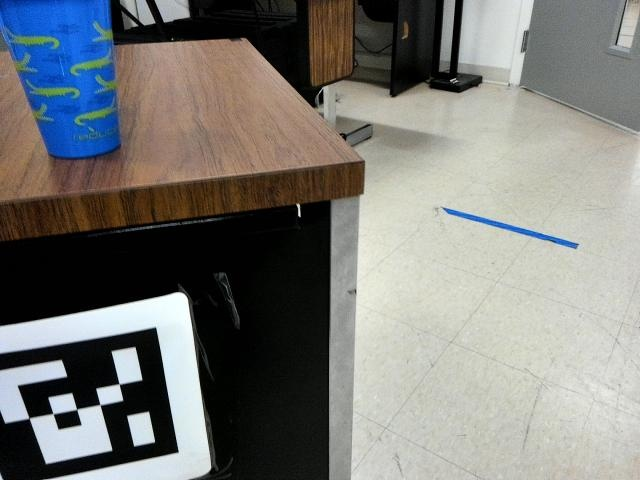water_cup: (1, 1, 131, 164)
